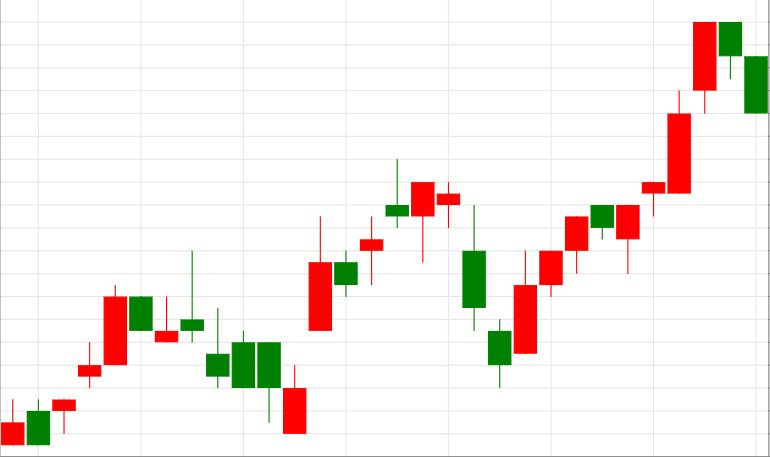hanging_man_fall: (283, 158, 435, 434)
three_white_soldiers_rise: (437, 182, 589, 389)
